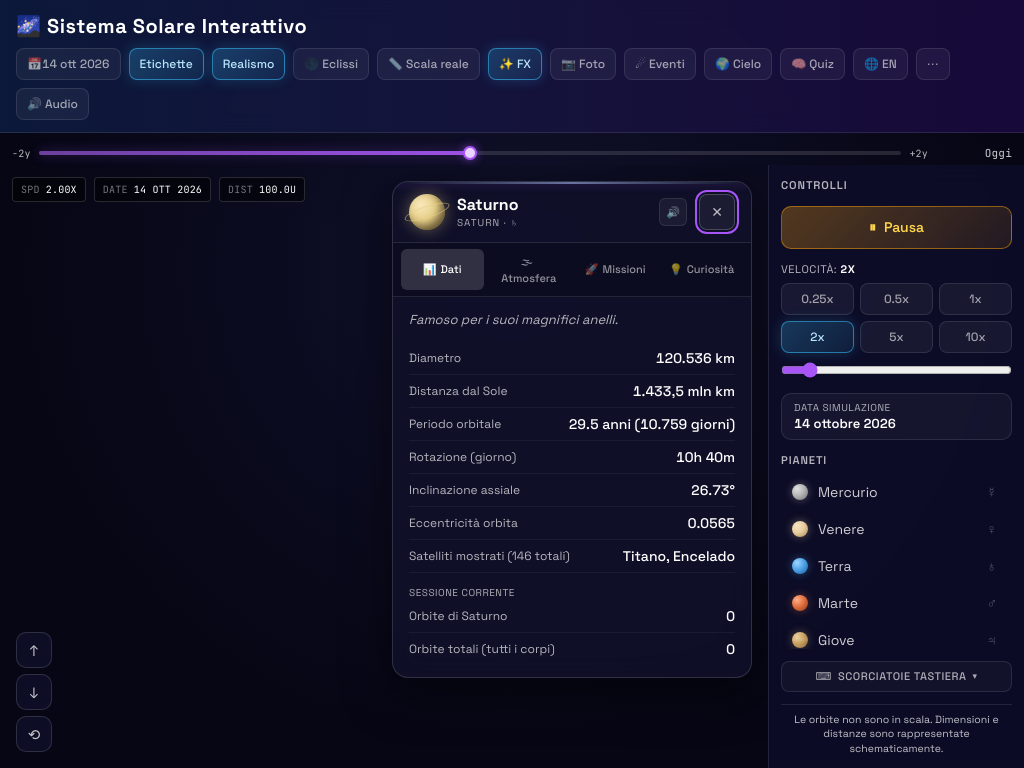
Test case: App — menu overflow header › apre il menu "⋯" e mostra Confronto/Tour/Free Cam
Expected: the menu item "Confronto" is not shown
What coordinates should you click on to do the following:
click the button named "Altre opzioni"
I would click on:
 (933, 64)
Its box is x1=916 y1=48 x2=950 y2=80.
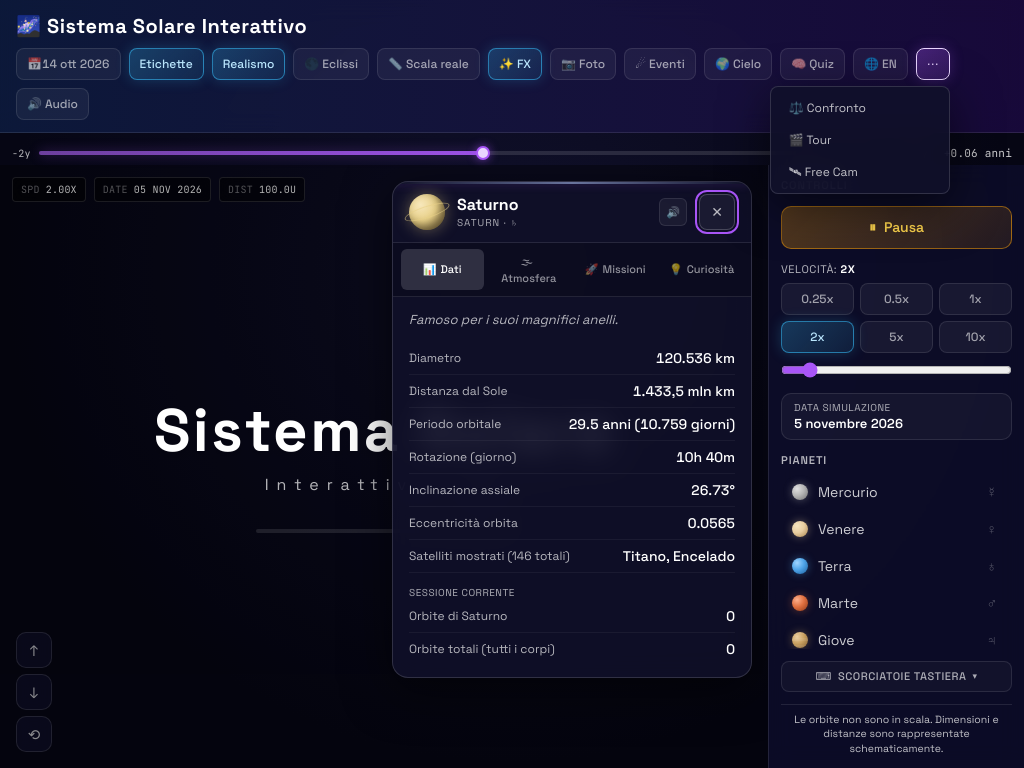
Now the menu item "⚖️ Confronto" is shown, box x1=777 y1=93 x2=943 y2=123
Now the menu item "🎬 Tour" is shown, box x1=777 y1=125 x2=943 y2=155
Now the menu item "🛰 Free Cam" is shown, box x1=777 y1=157 x2=943 y2=187
